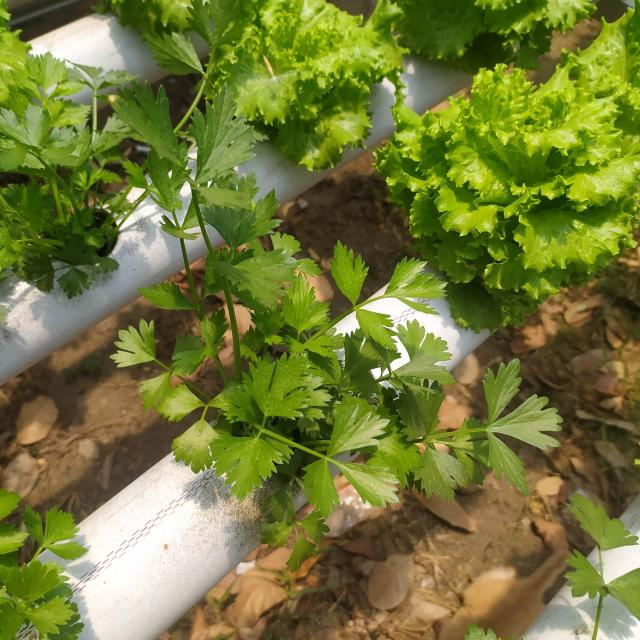Wet Waste: (221, 192, 582, 527)
